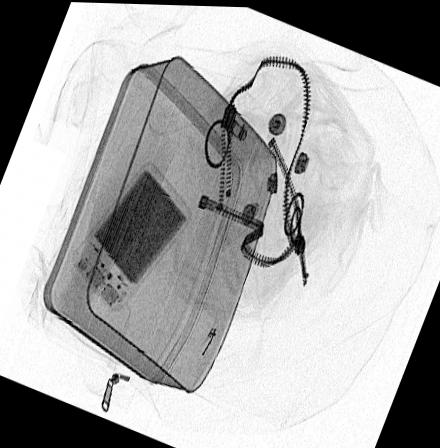Powerbank: (70, 159, 193, 312)
